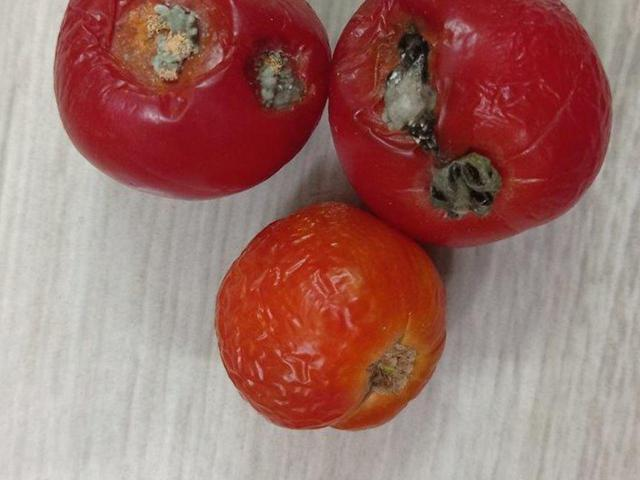defect: (329, 1, 616, 246), (45, 0, 331, 204)
